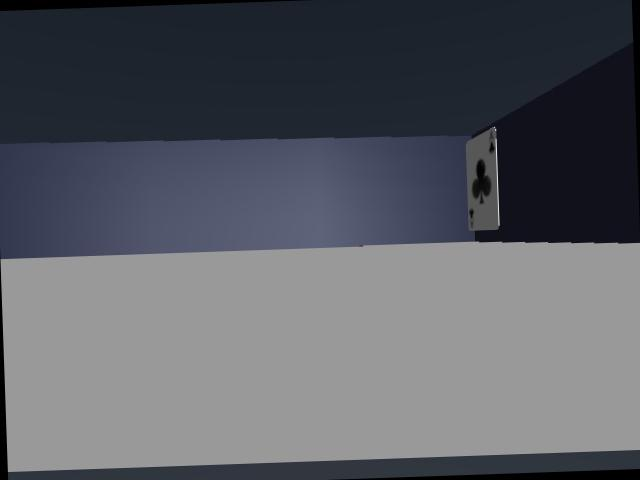club: (466, 128, 499, 230)
